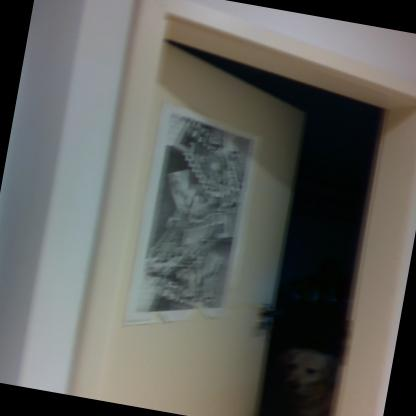semi: (58, 0, 415, 415)
